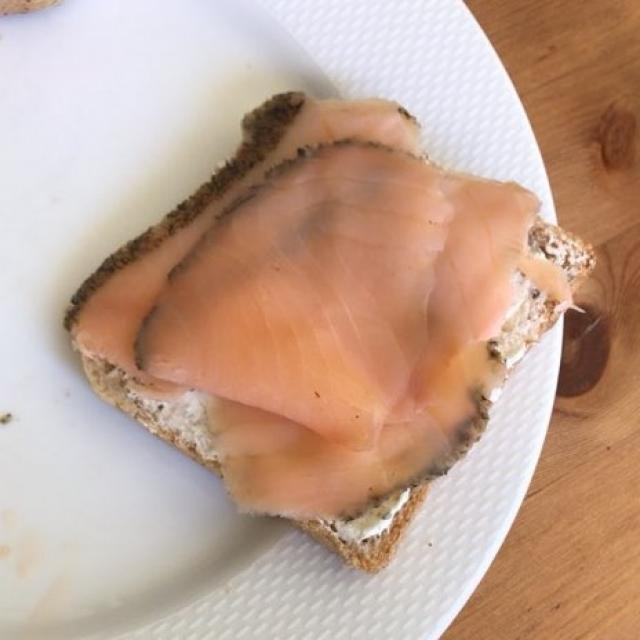bread-wholemeal-toast: (66, 96, 581, 562)
salmon-smoked: (56, 101, 554, 512)
